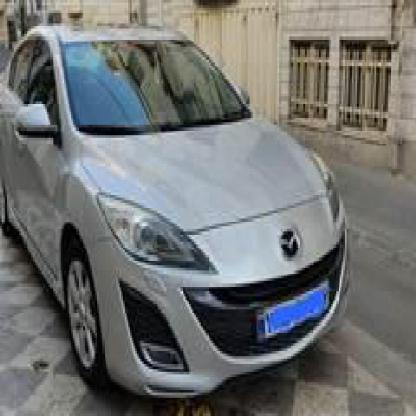car: (0, 18, 347, 411)
